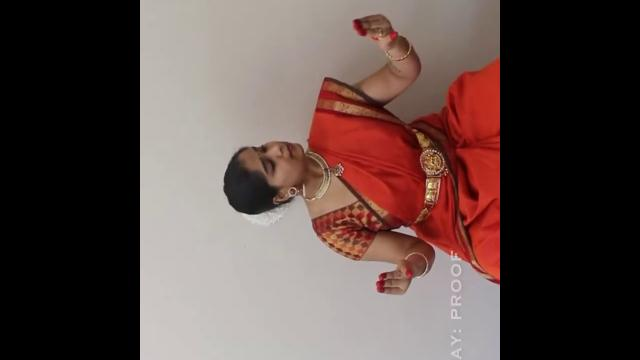chatur: (345, 0, 421, 67), (364, 246, 431, 302)
